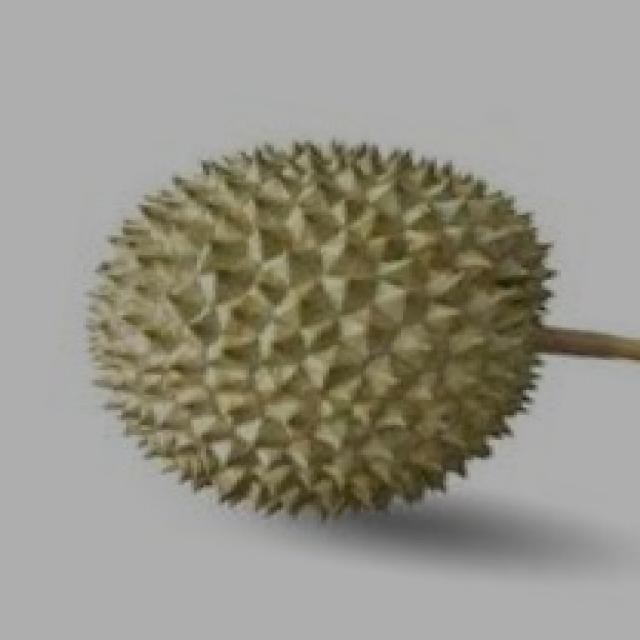fruit: (243, 208, 615, 588), (34, 200, 388, 595)
